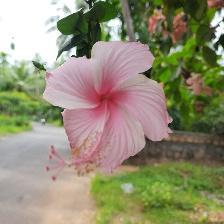hibiscus: (37, 41, 181, 185)
